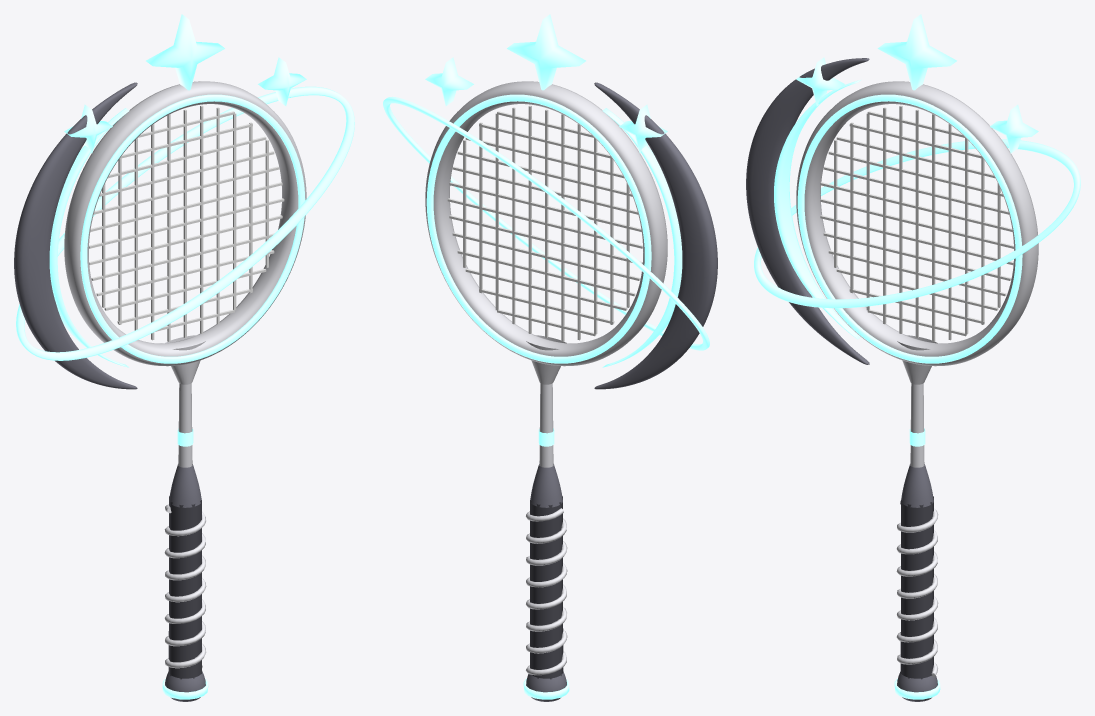
File: racket_celestial.glb
3 views of the same model, side by side, from view 1: azimuth 30°, elevation 25°; view 2: azimuth 150°, elevation 25°; view 3: azimuth 330°, elevation 25° (orthographic).
Visible parts, largest first — view 1: Strings, FrameHead, Crescent, Orbit, Groove, Grip, GripTape, CrescentGlow, Star, Throat, Shaft, Star.001 (+3 smaller); view 2: Strings, FrameHead, Crescent, Groove.001, Grip, Orbit, GripTape, CrescentGlow, Star, Throat, Shaft, Star.001 (+3 smaller); view 3: Strings, FrameHead, Crescent, Groove, Orbit, Grip, CrescentGlow, GripTape, Star, Throat, Shaft, Star.001 (+3 smaller).
Part boxes in pixels (left/top/right/bottom): Strings: left=89, top=105, right=284, bottom=341; FrameHead: left=64, top=81, right=306, bottom=366; Crescent: left=14, top=82, right=137, bottom=389; Orbit: left=16, top=86, right=354, bottom=360; Groove: left=80, top=94, right=305, bottom=363; Grip: left=168, top=496, right=201, bottom=679; GripTape: left=164, top=504, right=206, bottom=668; CrescentGlow: left=49, top=108, right=129, bottom=367; Star: left=146, top=14, right=224, bottom=90; Throat: left=169, top=464, right=201, bottom=507; Shaft: left=178, top=383, right=192, bottom=467; Star.001: left=258, top=57, right=306, bottom=105; Strings: left=447, top=105, right=642, bottom=341; FrameHead: left=425, top=81, right=667, bottom=366; Crescent: left=594, top=82, right=717, bottom=389; Groove.001: left=426, top=94, right=651, bottom=363; Grip: left=530, top=496, right=563, bottom=679; Orbit: left=383, top=96, right=709, bottom=350; GripTape: left=526, top=508, right=567, bottom=675; CrescentGlow: left=602, top=108, right=682, bottom=367; Star: left=507, top=14, right=585, bottom=90; Throat: left=530, top=464, right=562, bottom=507; Shaft: left=539, top=383, right=553, bottom=467; Star.001: left=425, top=57, right=473, bottom=105; Strings: left=820, top=105, right=1013, bottom=341; FrameHead: left=796, top=81, right=1038, bottom=366; Crescent: left=746, top=58, right=869, bottom=364; Groove: left=797, top=94, right=1022, bottom=363; Orbit: left=754, top=139, right=1080, bottom=308; Grip: left=900, top=496, right=933, bottom=679; CrescentGlow: left=774, top=79, right=861, bottom=339; GripTape: left=896, top=501, right=938, bottom=677; Star: left=877, top=14, right=956, bottom=90; Throat: left=901, top=464, right=933, bottom=507; Shaft: left=910, top=383, right=924, bottom=467; Star.001: left=990, top=104, right=1038, bottom=153.
Size of the model in its own units: 0.4141 by 0.805 by 0.0875.
